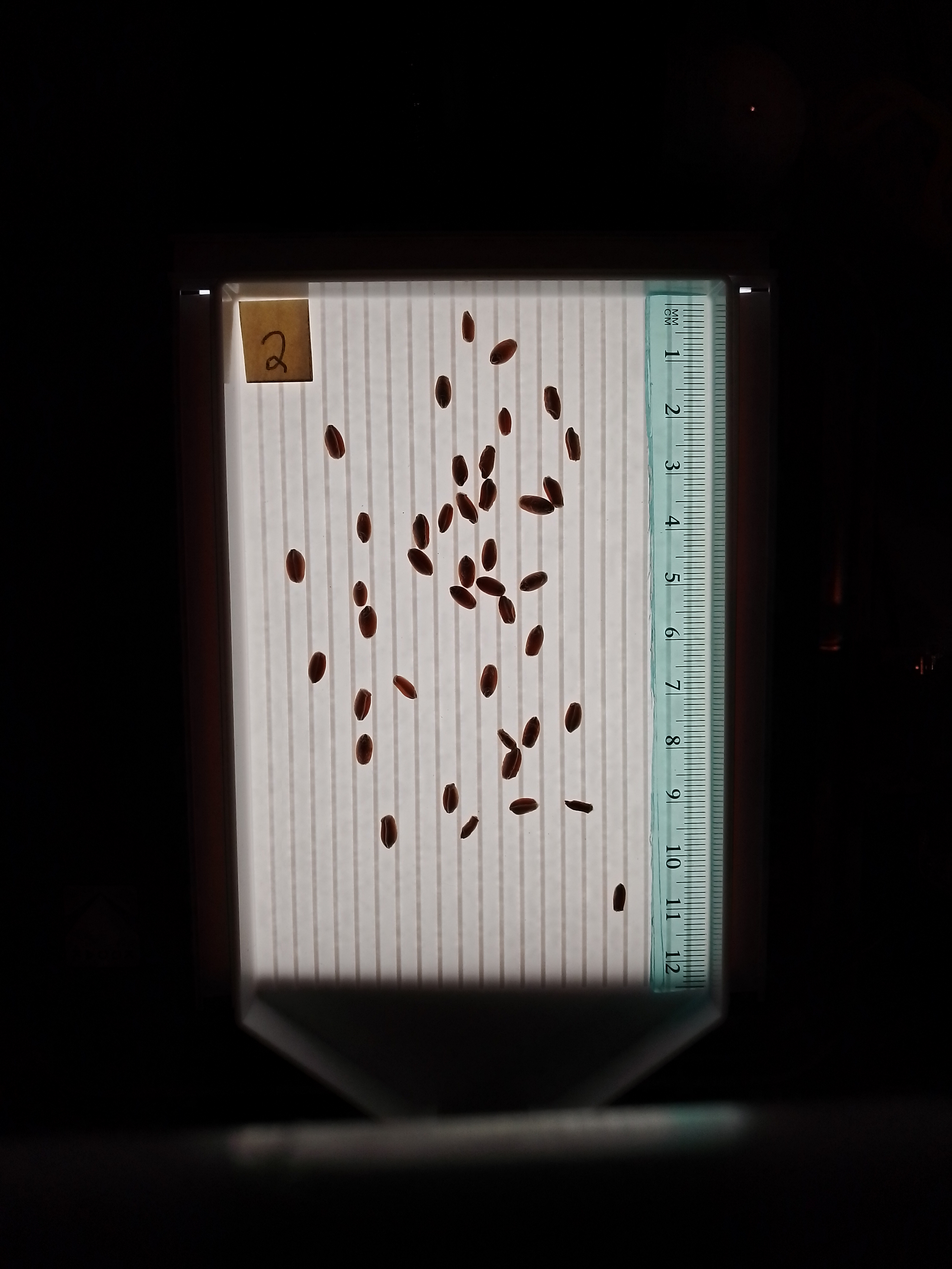seed mask: (520, 495, 554, 516), (324, 425, 345, 459), (490, 339, 517, 365), (502, 745, 522, 779), (543, 477, 564, 508), (286, 550, 305, 583), (412, 515, 430, 549), (457, 494, 478, 523), (358, 606, 377, 638), (409, 549, 432, 575), (450, 586, 476, 609), (477, 576, 505, 597), (479, 479, 497, 511), (480, 665, 498, 697), (520, 571, 547, 592), (380, 815, 397, 848), (522, 717, 540, 748), (394, 675, 416, 700), (544, 387, 561, 419), (526, 626, 544, 656), (308, 653, 326, 683), (458, 556, 475, 587), (354, 689, 371, 720), (435, 377, 452, 407), (356, 734, 373, 764), (356, 512, 372, 543), (565, 703, 582, 732), (482, 540, 498, 570), (480, 446, 495, 477), (443, 784, 459, 813), (566, 428, 580, 461), (510, 798, 537, 815), (499, 596, 515, 624), (453, 456, 468, 485), (461, 815, 478, 839), (439, 504, 453, 533), (612, 884, 626, 912), (462, 312, 475, 342), (353, 582, 368, 606), (499, 408, 512, 435), (566, 800, 592, 813), (499, 730, 516, 749)
